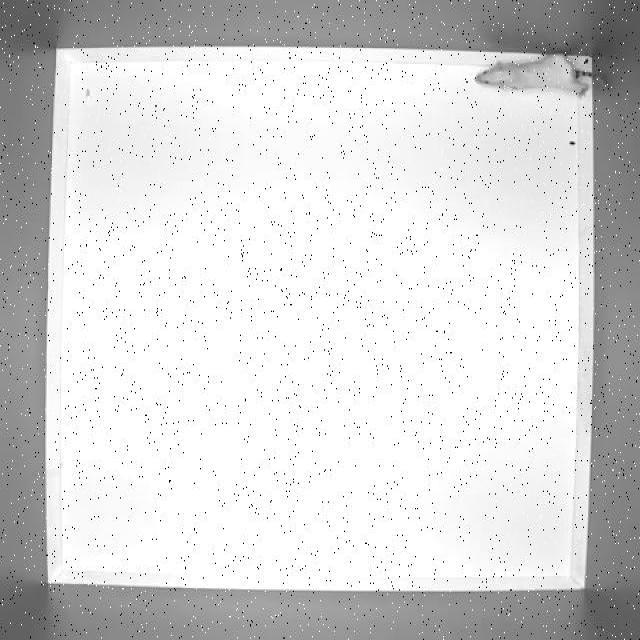rat: (475, 51, 612, 97)
